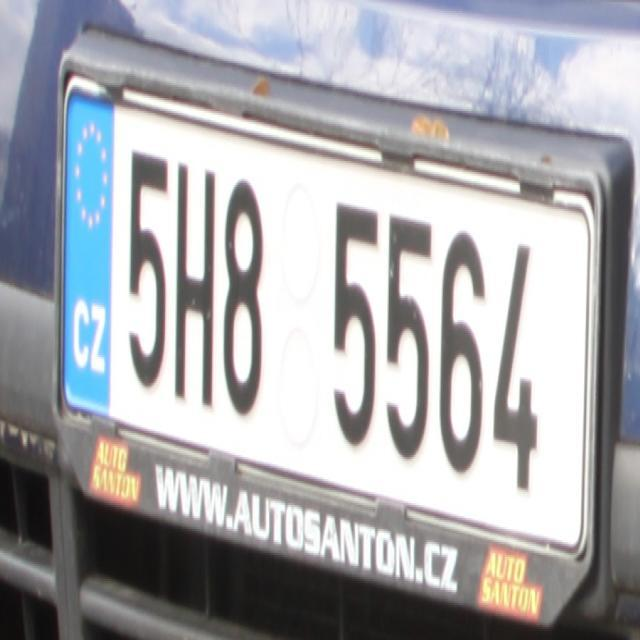4: (492, 237, 538, 492)
5: (329, 198, 378, 448), (384, 210, 432, 464), (125, 142, 167, 390)
6: (438, 233, 489, 487)
8: (224, 178, 262, 412)
H: (176, 162, 214, 406)
